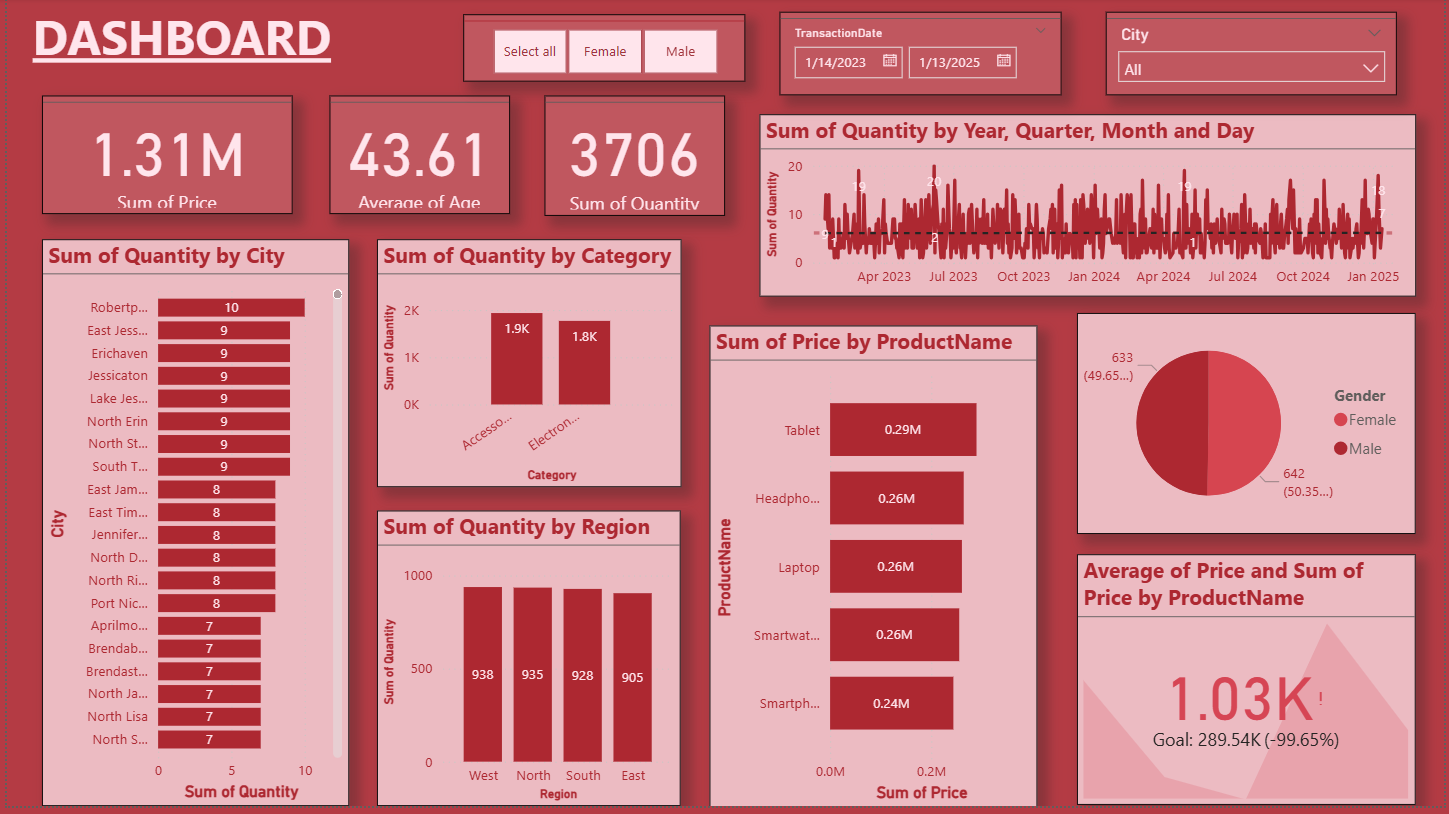

The page's visual inventory and layout, read from the dashboard file:
{"tool":"powerbi","page":{"name":"Page 1","canvas":[1280,720],"ordinal":0},"visuals":[{"type":"textbox","box":[17.8,0,286.8,74.1],"z":0},{"type":"card","fields":{"Values":["Sheet2.Age"]},"box":[287,86.5,160.9,105.7],"z":1},{"type":"card","fields":{"Values":["Sheet2.Price"]},"box":[31.2,86.5,223.3,105.7],"z":2},{"type":"barChart","fields":{"Y":["Sheet2.Quantity"],"Category":["Sheet2.City"]},"box":[31.4,215.2,273.7,504.6],"z":3},{"type":"columnChart","fields":{"Category":["Sheet2.Region"],"Y":["Sheet2.Quantity"]},"box":[329.3,456.9,270.3,263.5],"z":4},{"type":"columnChart","fields":{"Category":["Sheet2.Category"],"Y":["Sheet2.Quantity"]},"box":[329.3,215.2,270.8,220.9],"z":5},{"type":"barChart","fields":{"Category":["Sheet2.ProductName"],"Y":["Sheet2.Price"]},"box":[625.6,291.8,291.8,428.7],"z":6},{"type":"lineChart","fields":{"Y":["Sheet2.Quantity"],"Category":["Sheet2.TransactionDate.Variation.Date Hierarchy.Year","Sheet2.TransactionDate.Variation.Date Hierarchy.Quarter","Sheet2.TransactionDate.Variation.Date Hierarchy.Month","Sheet2.TransactionDate.Variation.Date Hierarchy.Day"]},"box":[670,103.3,584.8,162.1],"z":7},{"type":"pieChart","fields":{"Category":["Sheet2.Gender"],"Y":["Sheet2.Gender"]},"box":[953.4,281,301.4,196.9],"z":8},{"type":"kpi","fields":{"Indicator":["Sheet2.Price"],"Goal":["Sum(Sheet2.Price)1"],"TrendLine":["Sheet2.ProductName"]},"box":[953.4,495.9,301.4,223.3],"z":9},{"type":"card","fields":{"Values":["Sheet2.Quantity"]},"box":[479.1,86.5,160.9,106.9],"z":10},{"type":"slicer","fields":{"Values":["Sheet2.City"]},"box":[978.6,12,259.4,74.4],"z":11},{"type":"slicer","fields":{"Values":["Sheet2.TransactionDate"]},"box":[688,12,251,74.4],"z":12},{"type":"slicer","fields":{"Values":["Sheet2.Gender"]},"box":[405.9,14.4,251,60],"z":13}]}

Visuals, with their boxes in screenshot pixels (x1, y1, x2, y2), scaled from the page's 1280x720 canvas onto the 1449x814 screenshot:
textbox: 20/0/345/84
card - Sheet2.Age: 325/98/507/217
card - Sheet2.Price: 35/98/288/217
barChart - Sheet2.Quantity x Sheet2.City: 36/243/345/813
columnChart - Sheet2.Region x Sheet2.Quantity: 373/517/679/813
columnChart - Sheet2.Category x Sheet2.Quantity: 373/243/679/493
barChart - Sheet2.ProductName x Sheet2.Price: 708/330/1039/813
lineChart - Sheet2.Quantity x Sheet2.TransactionDate.Variation.Date Hierarchy.Year: 758/117/1420/300
pieChart - Sheet2.Gender x Sheet2.Gender: 1079/318/1420/540
kpi - Sheet2.Price x Sum(Sheet2.Price)1: 1079/561/1420/813
card - Sheet2.Quantity: 542/98/724/219
slicer - Sheet2.City: 1108/14/1401/98
slicer - Sheet2.TransactionDate: 779/14/1063/98
slicer - Sheet2.Gender: 459/16/744/84
